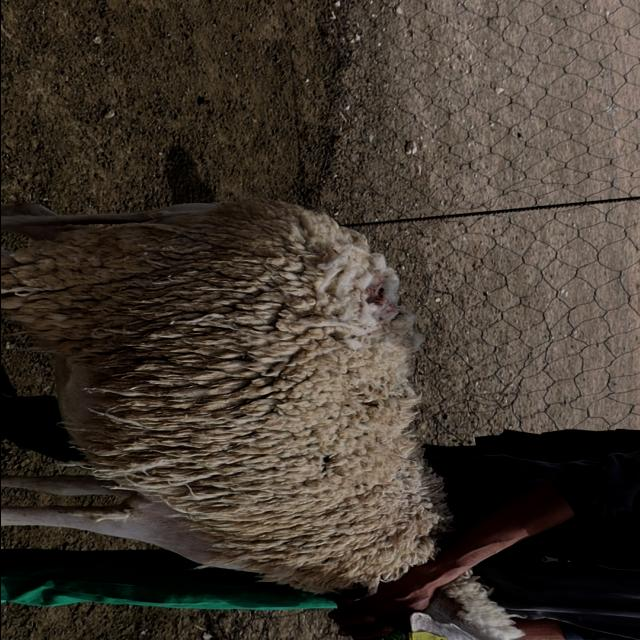Score_4: (1, 199, 454, 600)
